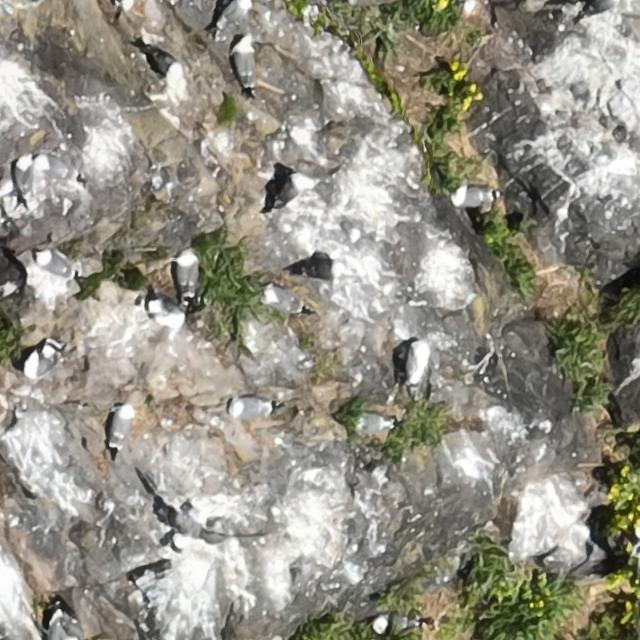F: (146, 485, 232, 549)
umineko: (267, 168, 315, 214), (26, 340, 64, 380), (402, 341, 432, 389), (291, 258, 349, 282), (370, 612, 424, 634), (229, 398, 270, 418), (148, 50, 180, 73), (113, 406, 133, 442), (236, 44, 254, 84), (40, 252, 70, 275), (455, 188, 492, 206), (221, 2, 249, 25), (178, 254, 196, 289), (357, 414, 392, 432), (15, 157, 30, 193), (116, 0, 135, 7)
